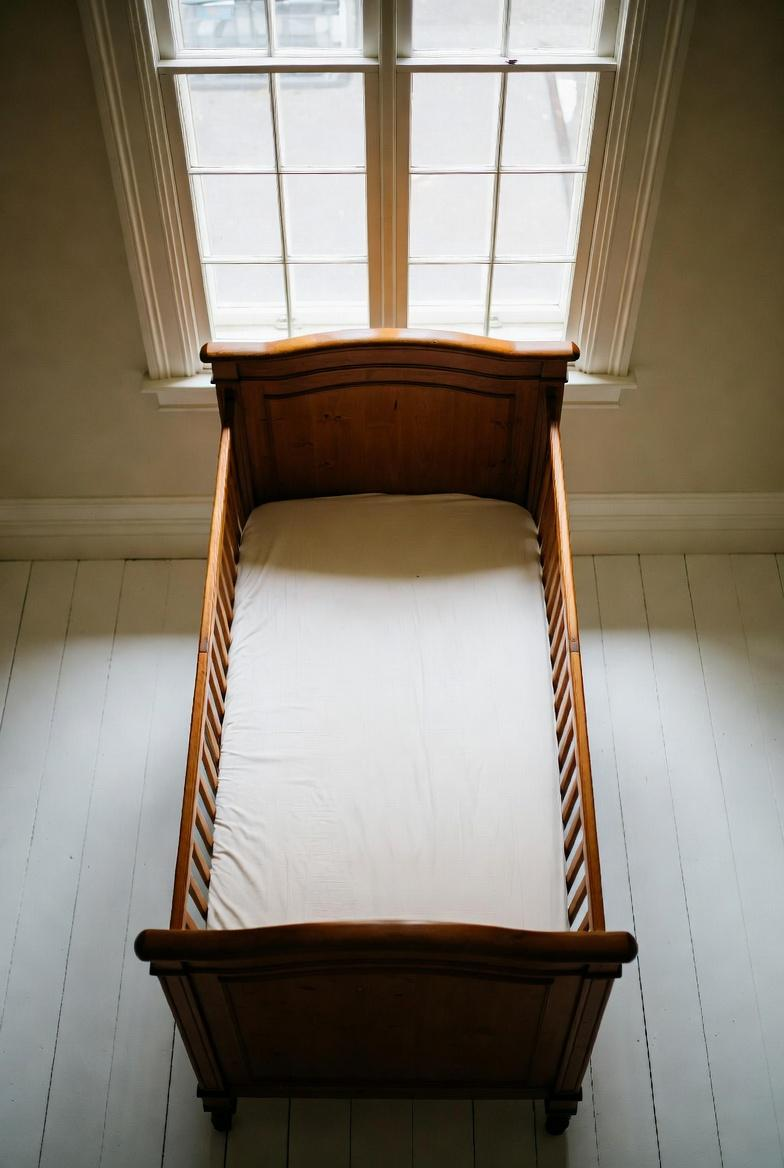crib: (134, 338, 638, 1134)
